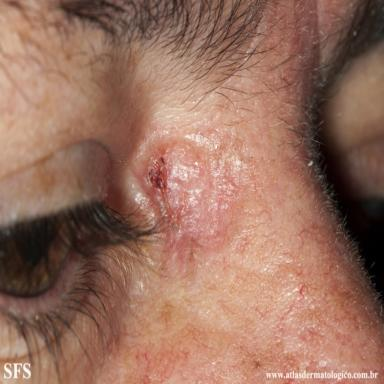basal-cell-carcinoma: (127, 128, 234, 246)
